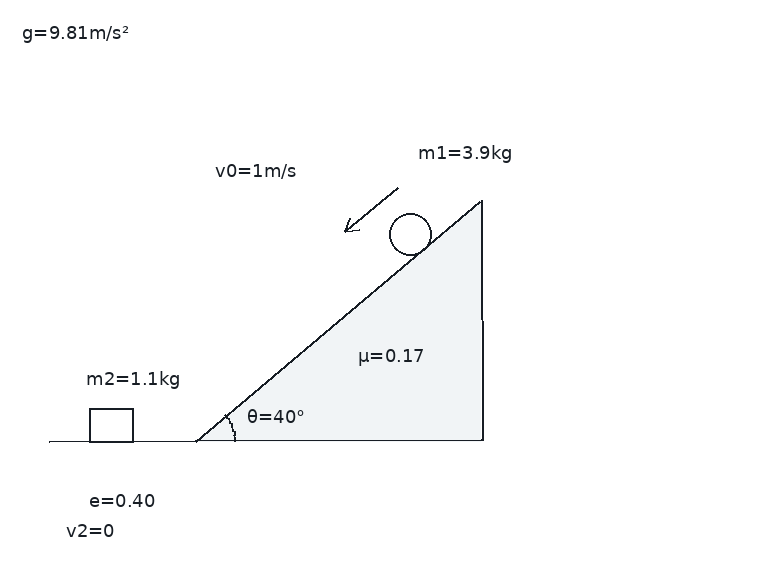ball: (387, 211, 433, 257)
block: (87, 407, 135, 443)
ramp: (193, 199, 483, 443)
